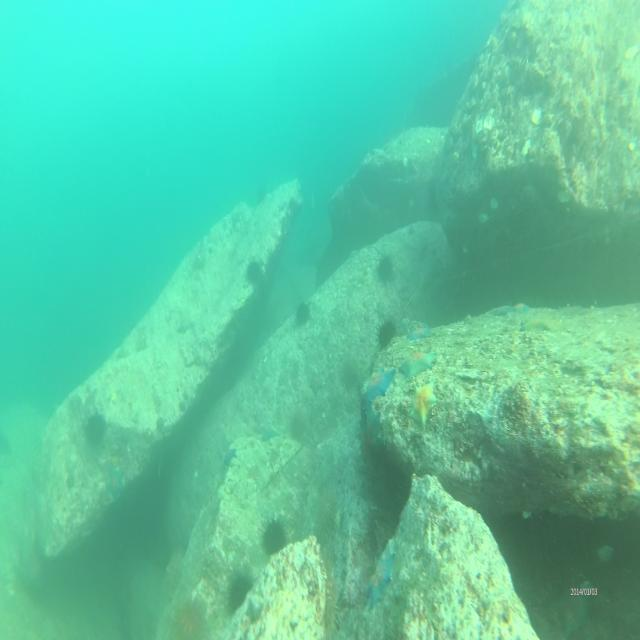echinus: (226, 569, 254, 612), (262, 518, 288, 557), (83, 414, 108, 454), (376, 320, 398, 350), (376, 257, 394, 287), (294, 301, 312, 331), (245, 261, 264, 289)
starfish: (370, 554, 398, 609), (363, 364, 395, 409), (410, 383, 439, 432), (403, 347, 437, 385), (505, 298, 532, 319), (408, 321, 433, 342)
